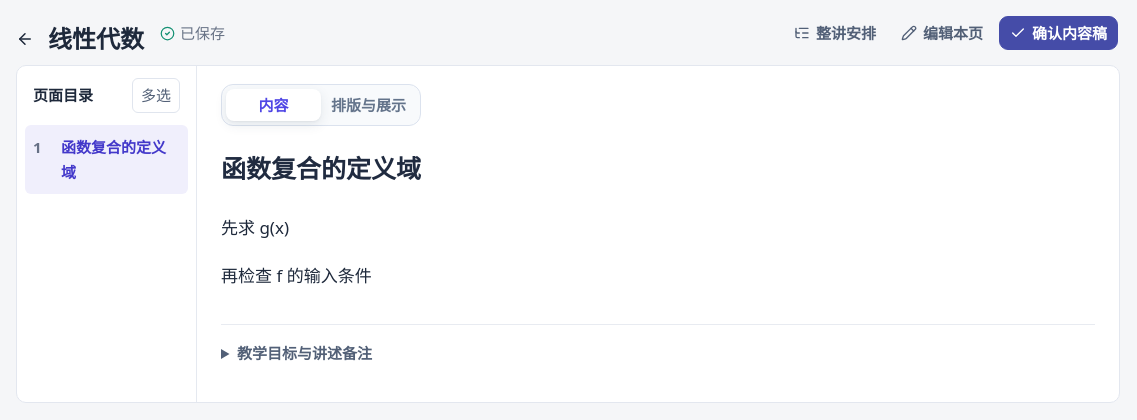
Test: PptWorkspaceView › 文书确认后才解锁根据文书生成 PPT
expect the element with test id "ppt-page-reading" shows "函数复合的定义域": met, box [221,151,421,185]
Click the button with test id "confirm-ppt-manuscript" at (1058, 33), box [999,16,1118,50]
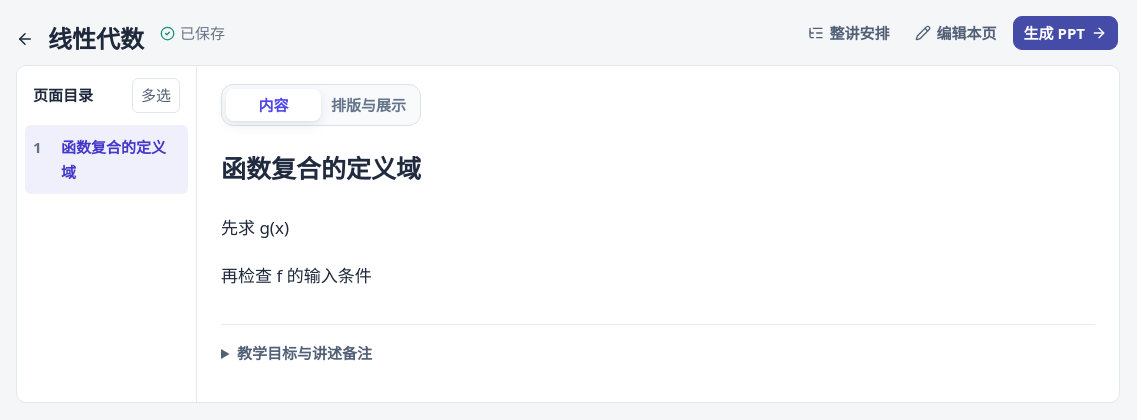
expect the button with test id "generate-ppt-from-manuscript" reads "生成 PPT": met, box [1013,16,1118,50]
